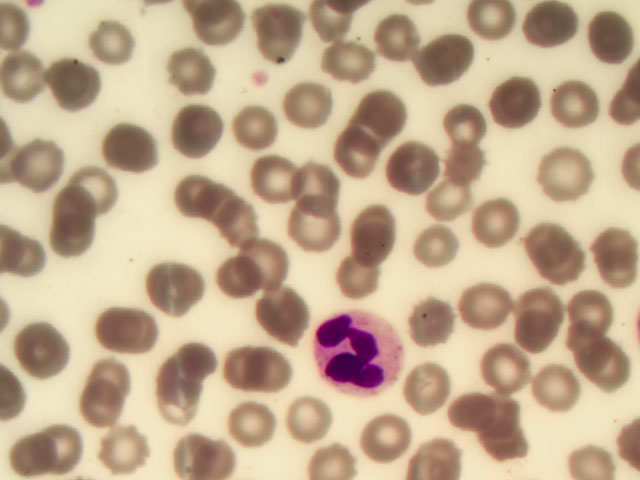Platelets: (243, 70, 276, 86)
RBC: (42, 53, 100, 112), (81, 16, 139, 75), (11, 135, 69, 194), (46, 212, 104, 271), (46, 180, 104, 239), (65, 157, 123, 216), (101, 120, 159, 179), (160, 100, 218, 159), (169, 42, 227, 101), (229, 93, 287, 152), (285, 75, 343, 134), (333, 32, 391, 91), (258, 7, 316, 66), (369, 14, 427, 73), (425, 35, 483, 94), (466, 5, 524, 64), (522, 2, 580, 61), (571, 11, 629, 70), (545, 83, 603, 142), (491, 76, 549, 135), (540, 143, 598, 202), (435, 93, 493, 152), (440, 127, 498, 186), (428, 160, 486, 219), (455, 190, 513, 249), (407, 223, 465, 282), (385, 141, 443, 200), (340, 130, 398, 189), (353, 82, 411, 141), (291, 155, 349, 214), (250, 150, 308, 209), (283, 203, 341, 262), (347, 198, 405, 257), (331, 246, 389, 305), (256, 290, 314, 349), (213, 253, 271, 312), (239, 227, 297, 286), (212, 208, 270, 267), (193, 174, 251, 233), (161, 162, 219, 221), (155, 257, 213, 316), (99, 293, 157, 352), (17, 317, 75, 376), (74, 338, 132, 397), (74, 387, 132, 446), (18, 418, 76, 477), (97, 420, 155, 479), (168, 421, 226, 480), (143, 385, 201, 444), (156, 344, 214, 403), (163, 336, 221, 395), (210, 339, 268, 398), (237, 340, 295, 399), (225, 389, 283, 448), (283, 386, 341, 445), (303, 421, 361, 480), (358, 405, 416, 464), (397, 367, 455, 426), (405, 293, 463, 352), (455, 278, 513, 337), (516, 268, 574, 327), (507, 302, 565, 361), (564, 283, 622, 342), (561, 327, 619, 386), (527, 357, 585, 416), (484, 342, 542, 401), (433, 385, 491, 444), (477, 404, 535, 463), (528, 222, 586, 281), (582, 220, 640, 279), (193, 1, 251, 59), (1, 48, 58, 107)
WBC: (318, 307, 405, 397)
